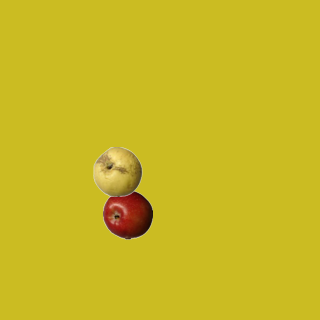Apple Braeburn: (102, 189, 152, 239)
Apple Golden 1: (92, 146, 142, 196)
